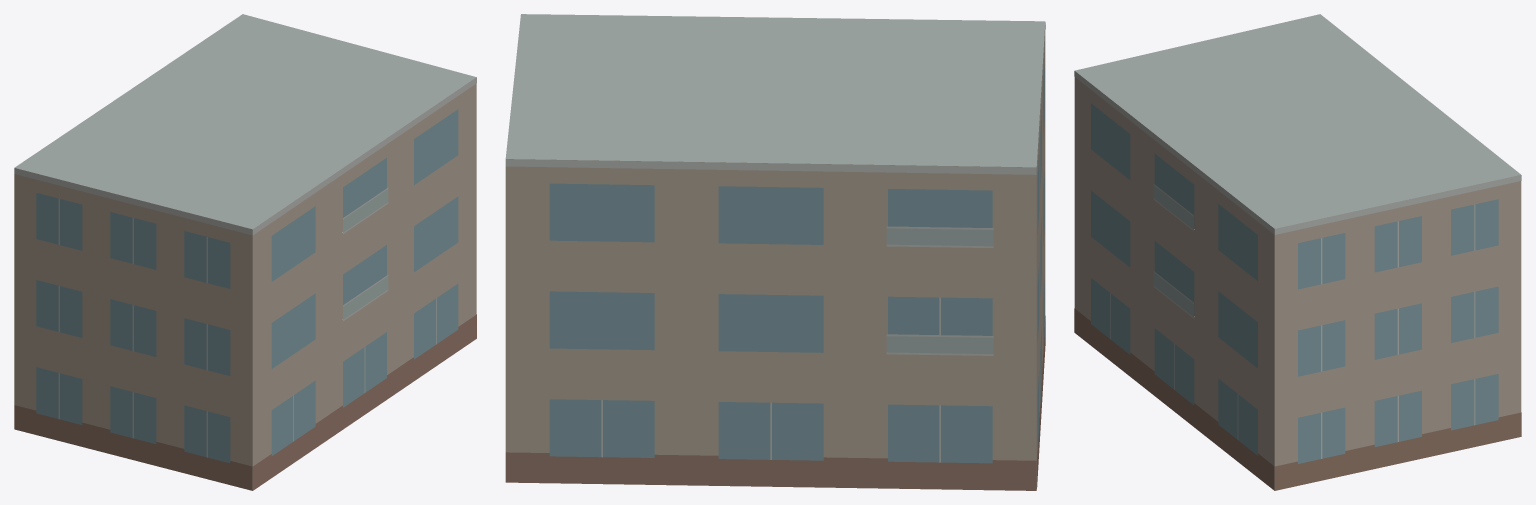
File: survey-upis-32891450.glb
3 views of the same model, side by side, from view 1: azimuth 30°, elevation 25°; view 2: azimuth 150°, elevation 25°; view 3: azimuth 270°, elevation 25° (orthographic). The views are drawn at different scales.
Parts seen in each view (by area): view 1: survey-upis-32891450.tmp; view 2: survey-upis-32891450.tmp; view 3: survey-upis-32891450.tmp.
Part boxes in pixels (x1=…): survey-upis-32891450.tmp: x1=14, y1=14, x2=476, y2=490; survey-upis-32891450.tmp: x1=505, y1=14, x2=1045, y2=490; survey-upis-32891450.tmp: x1=1074, y1=14, x2=1521, y2=490.
Size of the model in its own units: 18.49 by 10.5 by 16.25.
